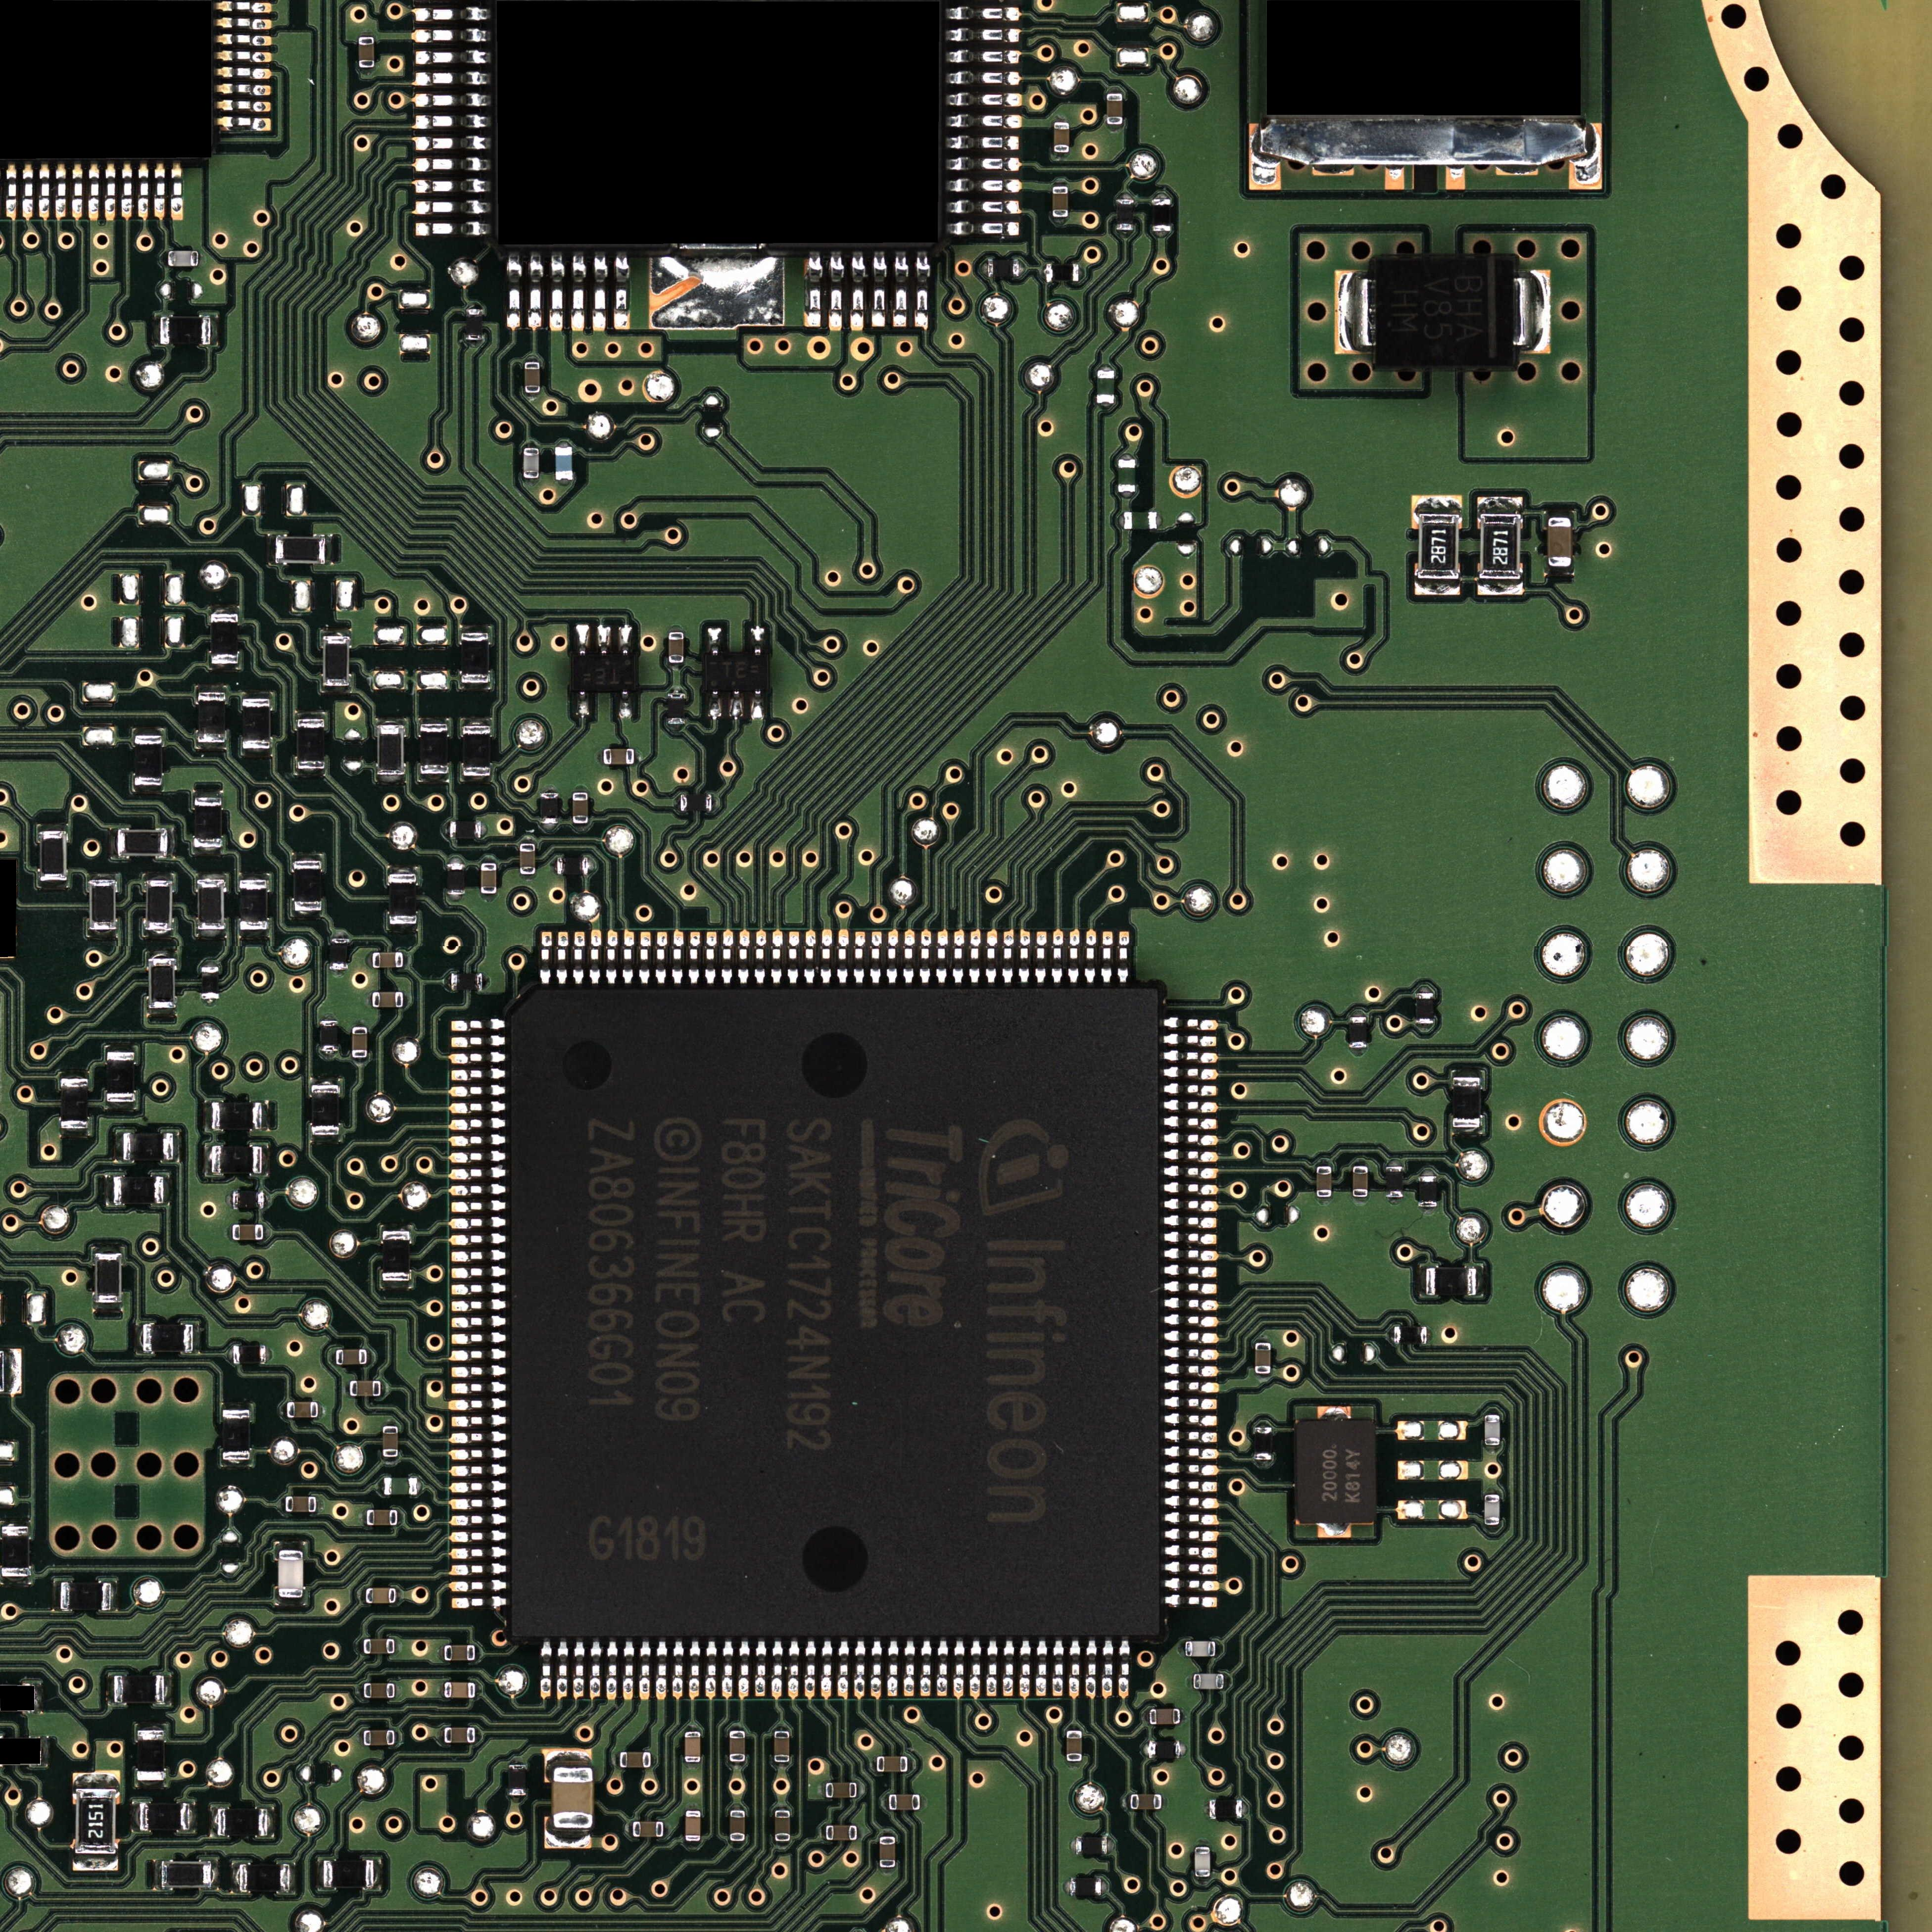Package: (508, 989, 1162, 1637), (1371, 253, 1516, 370), (1295, 1419, 1376, 1523), (74, 1789, 117, 1854), (1417, 513, 1460, 579), (1479, 513, 1520, 579), (552, 1767, 593, 1828), (571, 655, 637, 690), (704, 655, 768, 690), (115, 1674, 165, 1704), (1426, 1267, 1476, 1297), (161, 317, 211, 345), (211, 614, 239, 663), (242, 699, 271, 748), (462, 725, 490, 775), (134, 736, 163, 786), (113, 1177, 163, 1205), (60, 1077, 88, 1127), (221, 1410, 249, 1460), (218, 1808, 267, 1836), (143, 1323, 193, 1352), (324, 1859, 373, 1888), (136, 1730, 165, 1780), (382, 1231, 410, 1281), (311, 1085, 340, 1134), (106, 1051, 134, 1100), (1453, 1077, 1481, 1127), (419, 725, 448, 773), (62, 1582, 110, 1610), (124, 1132, 172, 1161), (241, 1863, 288, 1891), (389, 874, 416, 924), (119, 830, 168, 856), (195, 798, 221, 847), (276, 536, 326, 563), (294, 862, 320, 911), (297, 718, 324, 768), (462, 633, 488, 683), (149, 959, 175, 1008), (2, 1527, 28, 1576), (198, 694, 225, 741), (241, 881, 267, 929), (140, 1803, 188, 1829), (212, 1146, 260, 1173), (212, 1102, 260, 1129), (324, 637, 349, 686), (198, 879, 223, 929), (379, 725, 403, 775), (41, 832, 65, 881), (90, 881, 115, 931), (147, 881, 172, 931), (161, 1861, 211, 1886), (96, 1254, 120, 1302), (278, 1550, 303, 1598), (1548, 518, 1571, 566), (200, 966, 219, 1000), (1046, 264, 1079, 283), (1152, 198, 1171, 232), (540, 793, 559, 824), (234, 1345, 265, 1364), (987, 258, 1019, 278), (1419, 1175, 1438, 1207), (1210, 1799, 1242, 1819), (1415, 993, 1435, 1024), (384, 1477, 418, 1495), (1097, 370, 1115, 403), (1123, 511, 1157, 529), (557, 856, 589, 874), (556, 448, 573, 479), (449, 821, 481, 839), (232, 1191, 264, 1208), (1118, 460, 1136, 492), (1254, 1428, 1272, 1460), (1394, 1327, 1426, 1345), (1385, 1166, 1403, 1198), (1076, 1836, 1108, 1854), (667, 694, 685, 724), (681, 794, 711, 812), (465, 310, 483, 340), (320, 1021, 338, 1051), (1116, 200, 1134, 230), (1350, 1017, 1368, 1047), (331, 938, 347, 970), (448, 863, 464, 895), (232, 1224, 264, 1240), (773, 1730, 789, 1762), (510, 1764, 525, 1796), (775, 1810, 791, 1842), (729, 1730, 745, 1762), (444, 1683, 476, 1698), (287, 1401, 318, 1417), (1053, 186, 1069, 218), (1484, 1493, 1500, 1525), (1070, 1879, 1102, 1895), (1148, 1741, 1180, 1757), (359, 37, 375, 67), (603, 748, 633, 764), (524, 448, 540, 478), (373, 952, 403, 968), (571, 793, 587, 823), (481, 863, 497, 893), (685, 1810, 701, 1840), (685, 1732, 701, 1762), (352, 1028, 368, 1058), (366, 1509, 396, 1525), (621, 1752, 651, 1767), (890, 1794, 920, 1810), (350, 1380, 380, 1396), (878, 1757, 908, 1773), (364, 1683, 395, 1698), (366, 1587, 396, 1603), (729, 1810, 745, 1840), (444, 1727, 474, 1743), (444, 1645, 474, 1661), (382, 1426, 398, 1456), (364, 1638, 395, 1654), (285, 1497, 315, 1513), (633, 1821, 663, 1836), (879, 1836, 895, 1867), (1108, 94, 1123, 124), (1484, 1415, 1500, 1445), (1254, 1343, 1270, 1373), (1131, 1794, 1161, 1810), (1185, 1640, 1215, 1656), (1316, 1166, 1332, 1196), (1150, 1709, 1180, 1725), (1194, 1847, 1210, 1877), (669, 632, 683, 663), (1194, 1674, 1223, 1690), (520, 844, 534, 874), (525, 363, 540, 393), (168, 251, 198, 265), (373, 993, 403, 1007), (336, 1350, 366, 1364), (826, 1826, 856, 1840), (364, 1730, 395, 1744), (826, 1783, 856, 1798), (1054, 122, 1069, 152), (1067, 1730, 1081, 1760), (1353, 1166, 1368, 1196)
Solder: (1249, 122, 1601, 188), (649, 258, 784, 327), (1334, 271, 1373, 354), (1516, 271, 1550, 354), (805, 251, 821, 327), (506, 249, 520, 329), (529, 249, 543, 329), (550, 251, 564, 329), (571, 251, 586, 329), (593, 251, 607, 329), (872, 251, 886, 327), (893, 251, 908, 327), (915, 251, 929, 327), (947, 71, 1021, 85), (948, 157, 1023, 172), (416, 7, 490, 21), (416, 28, 490, 42), (416, 136, 490, 150), (416, 157, 490, 172), (416, 179, 490, 193), (947, 7, 1019, 21), (947, 28, 1019, 42), (947, 50, 1019, 64), (948, 113, 1021, 127), (948, 92, 1021, 106), (948, 136, 1021, 150), (948, 179, 1021, 193), (948, 221, 1021, 235), (948, 200, 1021, 214), (830, 251, 842, 331), (616, 251, 628, 329), (851, 253, 863, 329), (414, 51, 490, 64), (414, 73, 490, 85), (416, 94, 490, 106), (416, 115, 490, 127), (416, 202, 490, 214), (416, 223, 490, 235), (545, 1829, 591, 1849), (214, 117, 272, 131), (449, 1414, 506, 1428), (449, 1166, 506, 1180), (449, 1447, 506, 1461), (449, 1463, 506, 1477), (1412, 495, 1456, 513), (4, 1350, 21, 1394), (451, 1299, 506, 1313), (451, 1249, 506, 1263), (451, 1200, 506, 1214), (451, 1184, 506, 1198), (451, 1051, 506, 1065), (451, 1150, 506, 1164), (451, 1546, 506, 1560), (451, 1497, 506, 1511), (451, 1513, 506, 1527), (73, 1771, 120, 1787), (545, 1750, 593, 1766), (451, 1134, 504, 1148), (451, 1100, 504, 1115), (870, 1640, 883, 1700), (639, 1640, 651, 1700), (821, 1640, 833, 1700), (771, 1640, 784, 1700), (722, 1640, 734, 1700), (1019, 1638, 1031, 1698), (1118, 1638, 1131, 1698), (1069, 1638, 1081, 1698), (73, 1854, 119, 1870), (1477, 497, 1523, 513), (970, 1640, 982, 1698), (738, 1640, 750, 1698), (672, 1642, 685, 1700), (214, 67, 272, 80), (214, 83, 272, 96), (449, 1398, 506, 1410), (449, 1431, 506, 1444), (449, 1481, 506, 1493), (920, 1640, 932, 1697), (573, 1642, 586, 1698), (589, 1642, 602, 1698), (214, 34, 271, 46), (451, 1283, 506, 1295), (451, 1217, 506, 1230), (451, 1233, 506, 1246), (451, 1267, 506, 1279), (451, 1316, 506, 1329), (451, 1332, 506, 1345), (451, 1348, 506, 1361), (451, 1366, 506, 1378), (451, 1382, 506, 1394), (451, 1035, 506, 1047), (451, 1069, 506, 1081), (451, 1580, 506, 1592), (451, 1564, 506, 1576), (451, 1530, 506, 1543), (540, 931, 552, 985), (1164, 1348, 1219, 1361), (1164, 1330, 1219, 1343), (1164, 1364, 1219, 1376), (1164, 1380, 1219, 1392), (1162, 1231, 1217, 1244), (1162, 1017, 1217, 1030), (1162, 1033, 1217, 1046), (1162, 1083, 1217, 1095), (1162, 1051, 1217, 1063), (1162, 1067, 1217, 1079), (1162, 1100, 1217, 1113), (1162, 1215, 1217, 1228), (1164, 1463, 1219, 1476), (573, 931, 586, 985), (605, 931, 617, 985), (623, 931, 635, 985), (639, 931, 651, 985), (655, 931, 667, 985), (688, 931, 701, 985), (722, 931, 734, 985), (787, 931, 800, 985), (920, 931, 932, 985), (985, 931, 998, 985), (1019, 931, 1031, 985), (1116, 931, 1129, 985), (1085, 931, 1097, 985), (1100, 931, 1113, 985), (451, 1019, 504, 1031), (451, 1118, 504, 1131), (451, 1085, 504, 1097), (1164, 1249, 1217, 1261), (1164, 1265, 1217, 1277), (1164, 1315, 1217, 1327), (1164, 1299, 1217, 1311), (1164, 1281, 1217, 1293), (1164, 1414, 1217, 1426), (1164, 1430, 1217, 1442), (1164, 1200, 1217, 1212), (1164, 1182, 1217, 1194), (1164, 1166, 1217, 1178), (1164, 1116, 1217, 1129), (1164, 1132, 1217, 1145), (1164, 1150, 1217, 1162), (1164, 1479, 1217, 1491), (1164, 1578, 1217, 1591), (1164, 1513, 1217, 1525), (1164, 1562, 1217, 1575), (1164, 1546, 1217, 1559), (1164, 1529, 1217, 1541), (1164, 1497, 1217, 1509), (589, 931, 602, 984), (672, 932, 685, 985), (738, 932, 750, 985), (754, 932, 766, 985), (771, 932, 784, 985), (803, 932, 816, 985), (837, 932, 849, 985), (853, 932, 865, 985), (869, 932, 881, 985), (886, 932, 899, 985), (902, 932, 915, 985), (936, 932, 948, 985), (952, 932, 964, 985), (1069, 932, 1081, 985), (1035, 932, 1047, 985), (1051, 932, 1063, 985), (1477, 580, 1523, 594), (623, 1640, 633, 1700), (855, 1640, 865, 1700), (839, 1640, 849, 1700), (656, 1640, 667, 1700), (789, 1640, 800, 1700), (706, 1640, 717, 1700), (805, 1640, 816, 1700), (690, 1640, 701, 1700), (954, 1638, 964, 1698), (1086, 1638, 1097, 1698), (1102, 1638, 1113, 1698), (172, 161, 182, 221), (607, 1642, 617, 1700), (755, 1640, 766, 1698), (987, 1638, 998, 1697), (1003, 1638, 1014, 1697), (1037, 1638, 1047, 1697), (1053, 1638, 1063, 1697), (214, 2, 272, 12), (214, 18, 272, 28), (214, 51, 272, 62), (214, 101, 272, 111), (104, 161, 115, 219), (541, 1642, 552, 1698), (557, 1642, 568, 1698), (904, 1640, 915, 1697), (938, 1640, 948, 1697), (888, 1640, 899, 1697), (88, 163, 99, 219), (451, 1598, 506, 1608), (557, 931, 568, 985), (821, 931, 832, 985), (1415, 580, 1456, 594), (1164, 1398, 1217, 1408), (1164, 1447, 1217, 1458), (1164, 1596, 1217, 1606), (706, 932, 717, 985), (970, 932, 980, 985), (1003, 932, 1014, 985), (7, 161, 16, 219), (23, 161, 32, 219), (57, 161, 65, 219), (122, 161, 131, 219), (73, 161, 81, 219), (140, 161, 149, 219), (156, 161, 165, 219), (39, 161, 48, 218), (596, 625, 612, 655), (1318, 1523, 1352, 1537), (729, 690, 745, 718), (617, 690, 633, 718), (575, 690, 591, 718), (575, 625, 589, 655), (617, 625, 632, 655), (750, 690, 764, 720), (750, 626, 764, 655), (708, 626, 722, 655), (708, 690, 722, 718), (1318, 1407, 1350, 1419), (0, 1576, 30, 1587), (1476, 1263, 1484, 1299), (294, 851, 322, 862), (94, 1302, 122, 1313), (134, 1322, 143, 1355), (1451, 1069, 1484, 1077), (149, 948, 175, 959), (373, 1858, 382, 1890), (110, 828, 119, 858), (267, 534, 276, 564), (239, 872, 269, 881), (106, 1102, 136, 1111), (211, 1859, 219, 1890), (221, 1460, 251, 1468), (35, 1684, 44, 1714), (196, 870, 225, 879), (39, 823, 67, 832), (166, 828, 175, 856), (196, 929, 225, 938), (242, 690, 271, 699), (145, 872, 173, 881), (88, 929, 117, 938), (239, 929, 267, 938), (145, 929, 173, 938), (106, 1042, 134, 1051), (60, 1129, 88, 1138), (60, 1069, 88, 1077), (276, 1541, 304, 1550), (1545, 566, 1573, 575), (211, 313, 218, 347), (386, 924, 419, 931), (387, 867, 421, 874), (262, 1143, 269, 1177), (165, 1674, 172, 1707), (267, 1805, 274, 1838), (42, 1736, 50, 1769), (320, 630, 352, 637), (193, 1322, 200, 1353), (163, 1173, 170, 1205), (106, 1175, 113, 1207), (288, 1861, 295, 1893), (133, 1801, 140, 1833), (317, 1858, 324, 1890), (232, 1861, 239, 1893), (189, 1801, 196, 1833), (1419, 1265, 1426, 1297), (295, 713, 326, 720), (326, 534, 333, 564), (460, 683, 490, 690), (115, 1131, 122, 1161), (205, 1100, 212, 1131), (380, 1281, 410, 1288), (53, 1580, 60, 1610), (211, 1806, 218, 1836), (154, 1859, 161, 1890), (108, 1674, 115, 1704), (1453, 1127, 1483, 1134), (0, 1518, 30, 1525), (322, 686, 350, 694), (196, 685, 225, 692), (242, 748, 271, 755), (377, 718, 405, 725), (134, 786, 163, 793), (39, 881, 67, 888), (211, 607, 239, 614), (294, 911, 322, 918), (88, 872, 117, 879), (295, 770, 324, 777), (460, 625, 488, 632), (198, 743, 226, 750), (382, 1224, 410, 1231), (147, 1008, 175, 1016), (311, 1079, 340, 1086), (221, 1403, 249, 1410), (94, 1246, 122, 1253), (311, 1134, 340, 1141), (136, 1780, 165, 1787), (276, 1598, 304, 1605), (136, 1723, 165, 1730), (1545, 510, 1573, 517), (421, 718, 448, 725), (195, 847, 221, 855), (195, 791, 221, 798), (134, 729, 161, 736), (464, 720, 490, 727), (421, 773, 448, 780), (379, 775, 403, 782), (1348, 1047, 1368, 1056), (1201, 1799, 1210, 1819), (154, 315, 159, 347), (173, 1131, 179, 1162), (205, 1145, 211, 1177), (262, 1100, 267, 1131), (556, 439, 573, 448), (556, 479, 573, 488), (908, 1755, 916, 1773), (474, 1727, 483, 1744), (1106, 124, 1123, 133), (1419, 1168, 1437, 1177), (1194, 1877, 1212, 1886), (462, 775, 490, 780), (211, 663, 239, 669), (200, 1000, 221, 1007), (111, 1582, 117, 1610), (524, 354, 540, 363), (524, 478, 540, 487), (587, 858, 596, 874), (920, 1794, 929, 1810), (817, 1782, 826, 1798), (625, 1821, 633, 1836), (1122, 1794, 1131, 1810), (1194, 1838, 1210, 1847), (1177, 1640, 1185, 1656), (1062, 1879, 1070, 1895), (1484, 1525, 1500, 1534), (1484, 1445, 1500, 1454), (1484, 1486, 1500, 1495), (1415, 1024, 1435, 1031), (465, 340, 483, 347), (161, 249, 168, 267), (465, 303, 483, 310), (202, 959, 219, 966), (225, 1191, 232, 1208), (416, 1477, 423, 1495), (377, 1477, 384, 1495), (524, 393, 541, 400), (483, 973, 490, 991), (508, 1796, 525, 1803), (1116, 193, 1134, 200), (1118, 453, 1136, 460), (1116, 230, 1134, 237), (1154, 232, 1171, 239), (1097, 403, 1115, 410), (1118, 492, 1136, 499), (1385, 1159, 1403, 1166), (1415, 985, 1433, 993), (1350, 1010, 1368, 1017), (1419, 1207, 1437, 1214), (1254, 1421, 1272, 1428), (1254, 1460, 1272, 1467), (1215, 1640, 1223, 1658), (1069, 1836, 1076, 1854), (1108, 1836, 1115, 1854), (1242, 1799, 1249, 1817), (1426, 1327, 1433, 1345), (198, 251, 205, 267), (359, 67, 375, 74), (331, 970, 347, 977), (226, 1346, 234, 1362), (226, 1224, 234, 1240), (265, 1346, 272, 1362), (320, 1016, 336, 1023), (437, 1727, 444, 1743), (357, 1730, 364, 1746), (382, 1456, 398, 1463), (278, 1497, 285, 1513), (395, 1638, 402, 1654), (357, 1638, 364, 1654), (524, 441, 540, 448), (541, 824, 557, 832), (550, 858, 557, 874), (541, 786, 557, 793), (711, 794, 718, 810), (669, 724, 685, 731), (881, 1794, 888, 1810), (685, 1803, 701, 1810), (510, 1757, 525, 1764), (729, 1762, 745, 1769), (773, 1762, 789, 1769), (612, 1752, 619, 1767), (685, 1762, 701, 1769), (729, 1803, 745, 1810), (685, 1725, 701, 1732), (773, 1725, 789, 1732), (729, 1842, 745, 1849), (856, 1782, 863, 1798), (685, 1842, 701, 1849), (879, 1829, 895, 1836), (879, 1868, 895, 1875), (819, 1824, 826, 1840), (775, 1803, 791, 1810), (1053, 218, 1069, 225), (1019, 260, 1026, 276), (1053, 179, 1069, 186), (1108, 87, 1123, 94), (980, 260, 987, 276), (1154, 193, 1169, 200), (1054, 152, 1070, 159), (1053, 115, 1069, 122), (1116, 513, 1123, 529), (1316, 1159, 1332, 1166), (1387, 1327, 1394, 1343), (1352, 1159, 1368, 1166), (1387, 1198, 1403, 1205), (1316, 1198, 1332, 1205), (1352, 1198, 1368, 1205), (1254, 1336, 1270, 1343), (1254, 1373, 1270, 1380), (1067, 1723, 1083, 1730), (1067, 1762, 1083, 1769), (1187, 1674, 1194, 1690), (1224, 1674, 1231, 1690), (1143, 1709, 1150, 1725), (1180, 1709, 1187, 1725), (1180, 1741, 1187, 1757), (1141, 1741, 1148, 1757), (448, 856, 462, 863), (333, 931, 347, 938), (366, 954, 373, 968), (366, 993, 373, 1007), (437, 1683, 444, 1697), (474, 1645, 481, 1660), (437, 1645, 444, 1660), (357, 1683, 364, 1697), (396, 1511, 403, 1525), (395, 1730, 402, 1744), (317, 1497, 324, 1511), (573, 823, 587, 830), (573, 786, 587, 793), (674, 796, 681, 810), (856, 1826, 863, 1840), (651, 1753, 658, 1767), (870, 1757, 878, 1771), (663, 1822, 671, 1836), (1484, 1408, 1499, 1415), (320, 1053, 338, 1058), (773, 1842, 791, 1847), (1097, 364, 1115, 370), (1040, 264, 1046, 281), (329, 1352, 336, 1364), (395, 1684, 402, 1697), (448, 895, 464, 901), (444, 821, 449, 837), (264, 1224, 269, 1240), (318, 1401, 324, 1417), (361, 1587, 366, 1603), (633, 748, 639, 764), (598, 748, 603, 764), (729, 1725, 745, 1730), (476, 1681, 481, 1697), (1079, 265, 1085, 281), (1157, 513, 1162, 529), (1162, 1794, 1168, 1810), (1102, 1879, 1108, 1895), (359, 32, 373, 37), (481, 823, 487, 837), (352, 1023, 366, 1028), (264, 1192, 269, 1207), (384, 1421, 398, 1426), (403, 993, 409, 1007), (366, 1350, 372, 1364), (380, 1382, 386, 1396), (345, 1382, 350, 1396), (281, 1403, 287, 1417), (396, 1589, 402, 1603), (361, 1511, 366, 1525), (669, 626, 683, 632), (669, 688, 683, 694), (669, 663, 683, 669), (520, 839, 534, 844), (520, 874, 534, 879), (481, 893, 495, 899), (483, 858, 495, 863), (403, 952, 407, 968), (352, 1058, 366, 1062), (446, 975, 451, 982)
